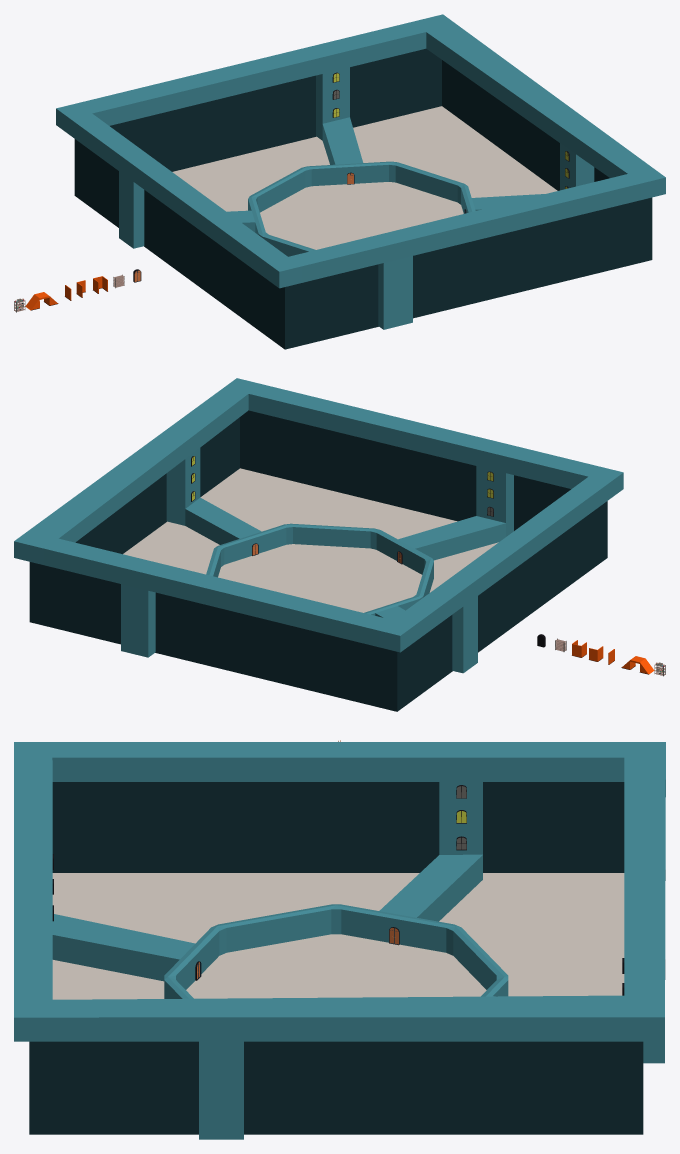
Rendered from Cenario_Jogo_Final_1.fbx.
3 views of the same model, one above another, from view 1: azimuth 30°, elevation 25°; view 2: azimuth 150°, elevation 25°; view 3: azimuth 270°, elevation 25° (orthographic). The views are drawn at different scales.
Parts seen in each view (by area): view 1: Ringue; view 2: Ringue; view 3: Ringue.
Part boxes in pixels (bbox=[...]): Ringue: bbox=[56, 14, 665, 349]; Ringue: bbox=[14, 378, 623, 711]; Ringue: bbox=[14, 742, 665, 1139].
Bounding box in the file's own units: 26775 × 4000 × 19200.
